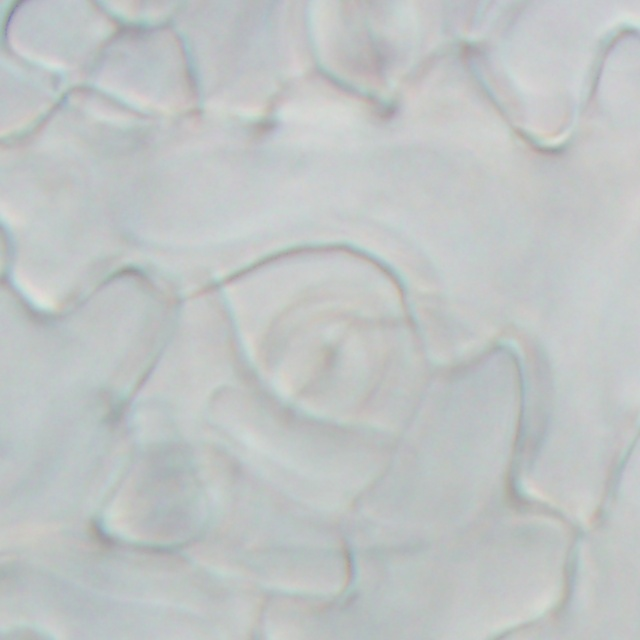center: (289, 284, 359, 369), (339, 42, 396, 59), (118, 11, 158, 15)
stomata-huw1: (226, 247, 411, 426), (305, 0, 430, 101), (93, 0, 183, 26)
